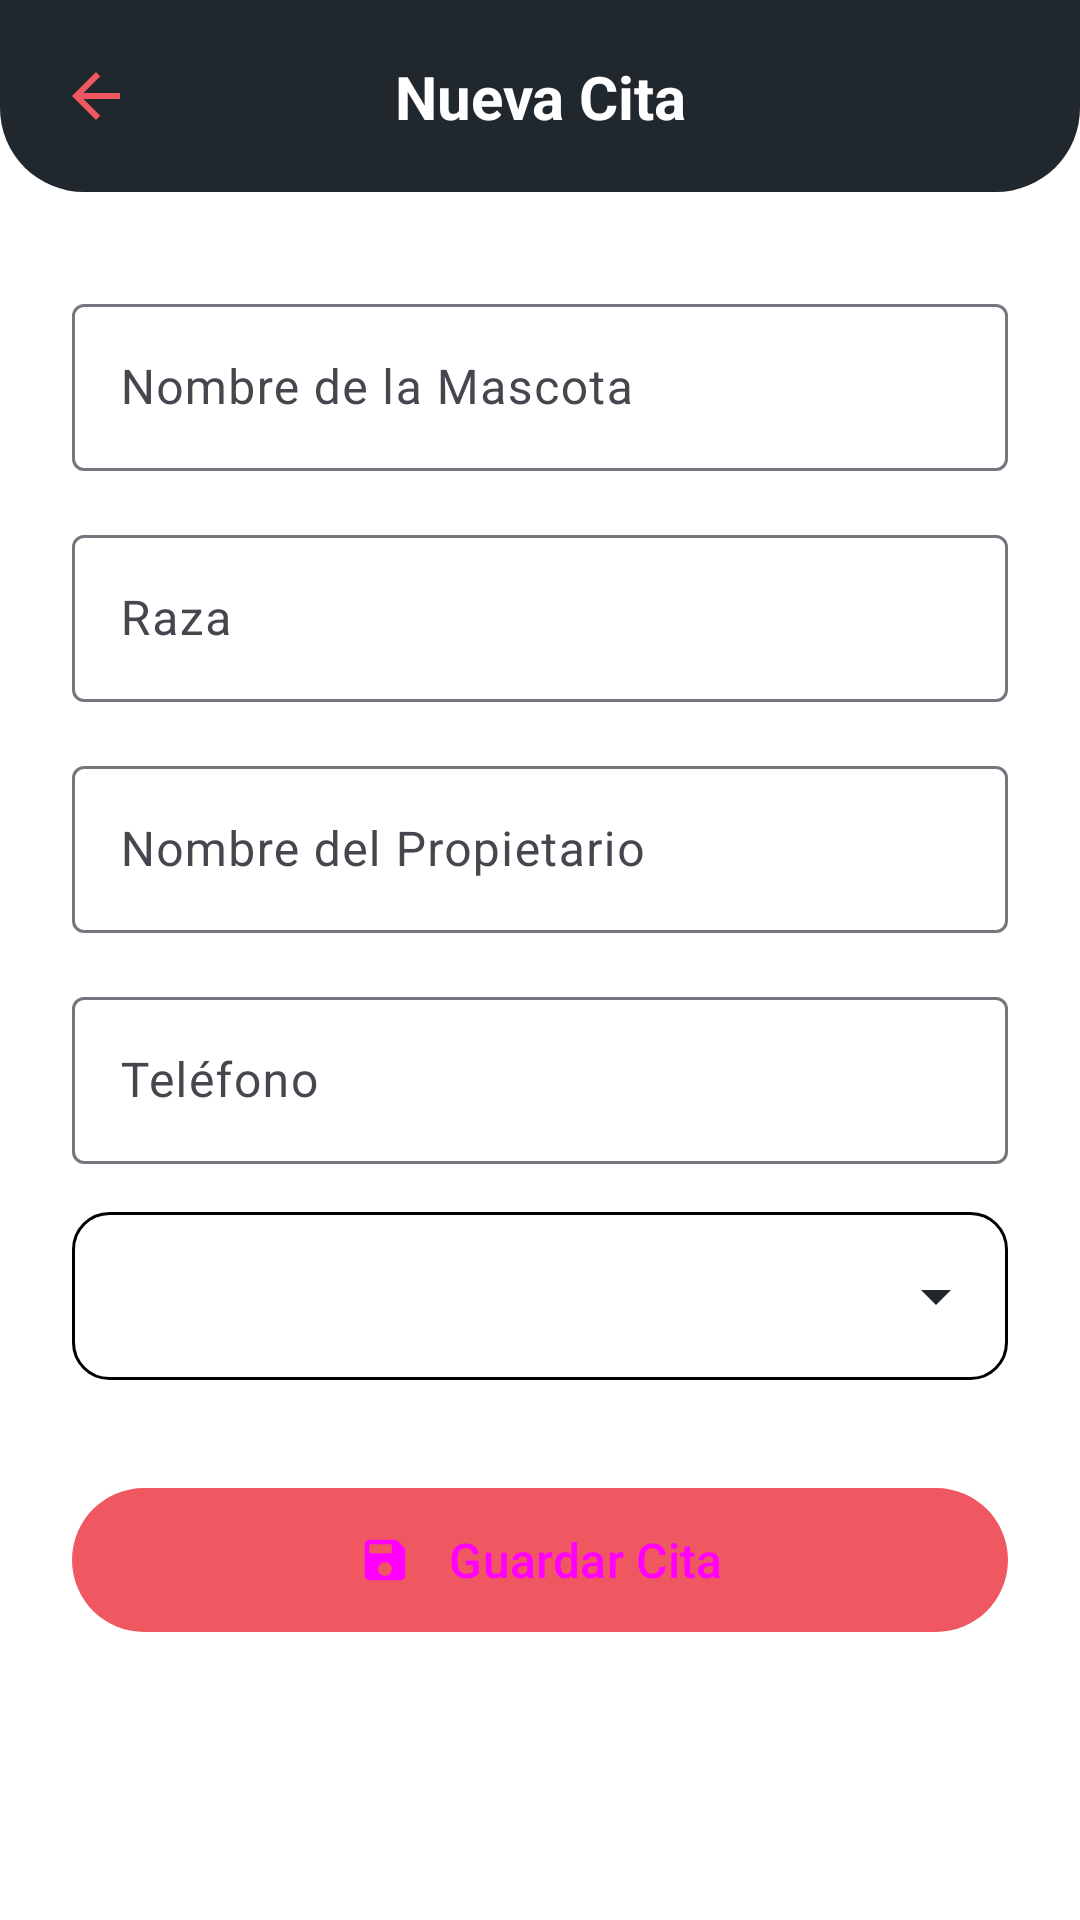

Named icons in this screenshot (1080*1920) and their centers, [x,y]:
Volver: [96,96]
